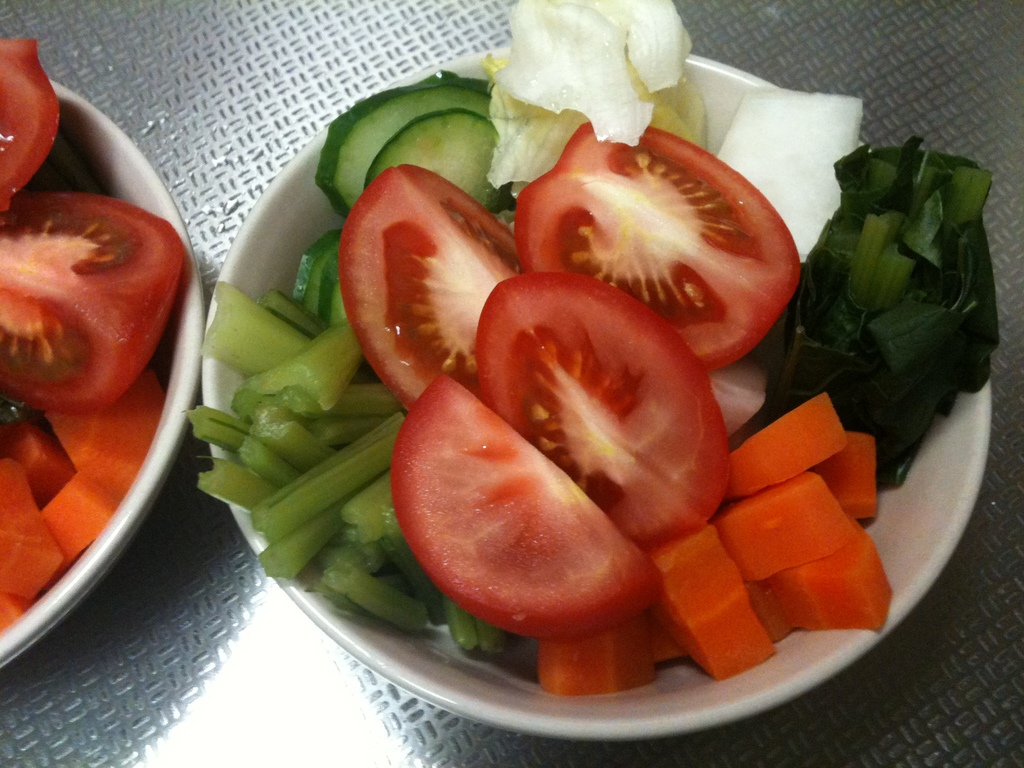Tomato: (507, 115, 794, 378), (395, 392, 643, 655), (482, 272, 745, 517), (334, 166, 508, 399), (0, 202, 184, 414), (0, 33, 58, 214)
